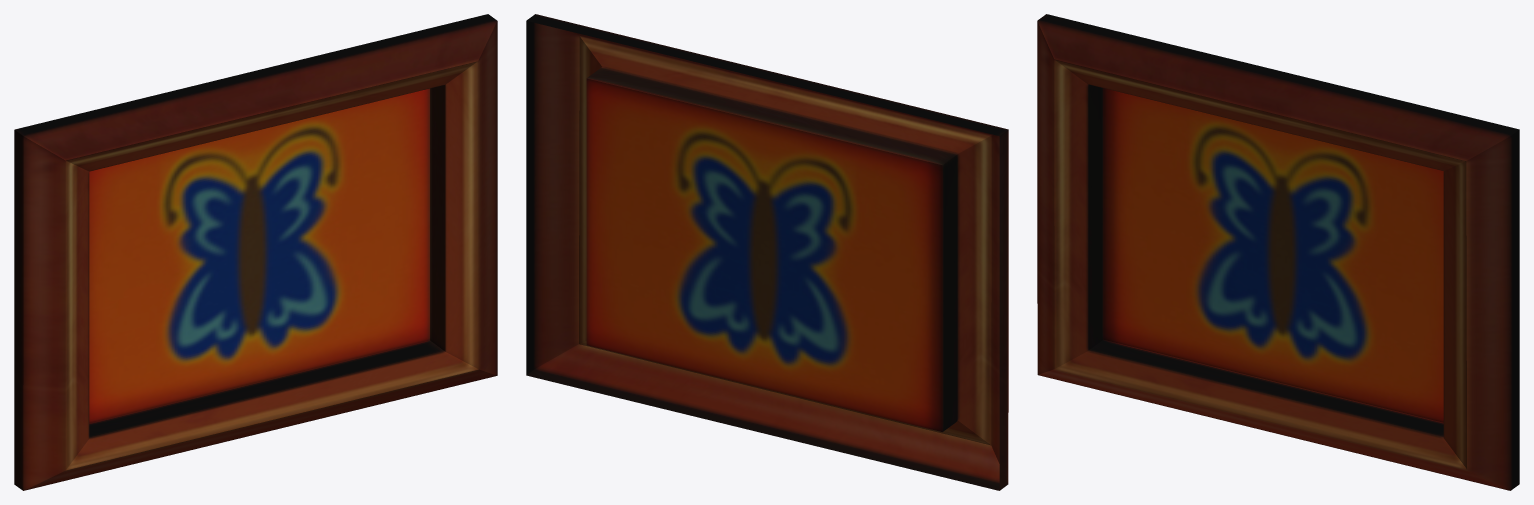
Rendered from videoframe6.dae.
The picture shows the model from 3 angles, left to right: view 1: azimuth 30°, elevation 25°; view 2: azimuth 150°, elevation 25°; view 3: azimuth 330°, elevation 25°; orthographic projection.
Parts seen in each view (by area): view 1: Frame6, Image6; view 2: Image6, Frame6; view 3: Frame6, Image6.
Part boxes in pixels (x1,y1,x2,y2): Frame6: (14,14,497,490); Image6: (89,88,429,423); Image6: (586,78,942,431); Frame6: (526,14,1008,490); Frame6: (1037,14,1519,490); Image6: (1103,88,1443,422).
Size of the model in its own units: 2.84 by 2.04 by 0.2258.
1 material, 1 textured.
